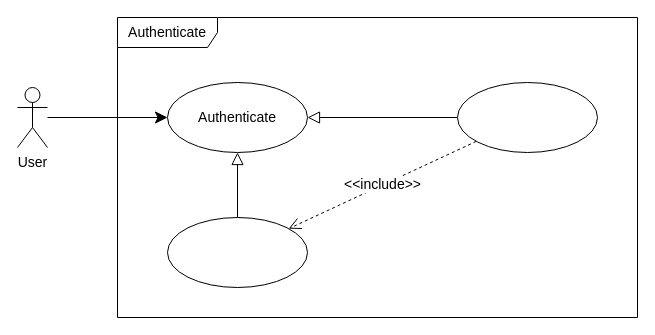
This 655x335 diagram has some shape labels left out. Here are the shapes that lost their labels. From the top down, the centre of each, then its label:
At [527,117]: "Sign up".
At [237,252]: "Log in".
